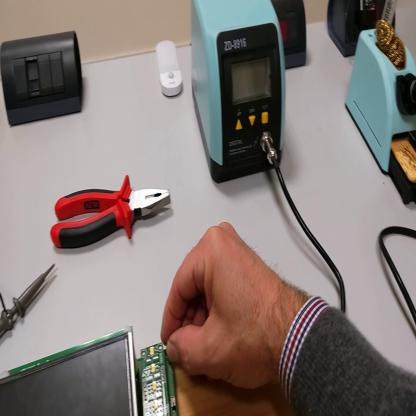hand: (163, 222, 284, 390)
low voltage board: (2, 326, 179, 416)
oscilloscope probe tip: (2, 262, 56, 334)
pliers: (51, 168, 171, 254)
socket: (329, 1, 398, 59), (271, 3, 309, 70)
welder base: (349, 2, 416, 208)
welder probe tip: (406, 76, 416, 108)
welder station: (192, 2, 286, 186)
working area: (173, 364, 291, 415)
